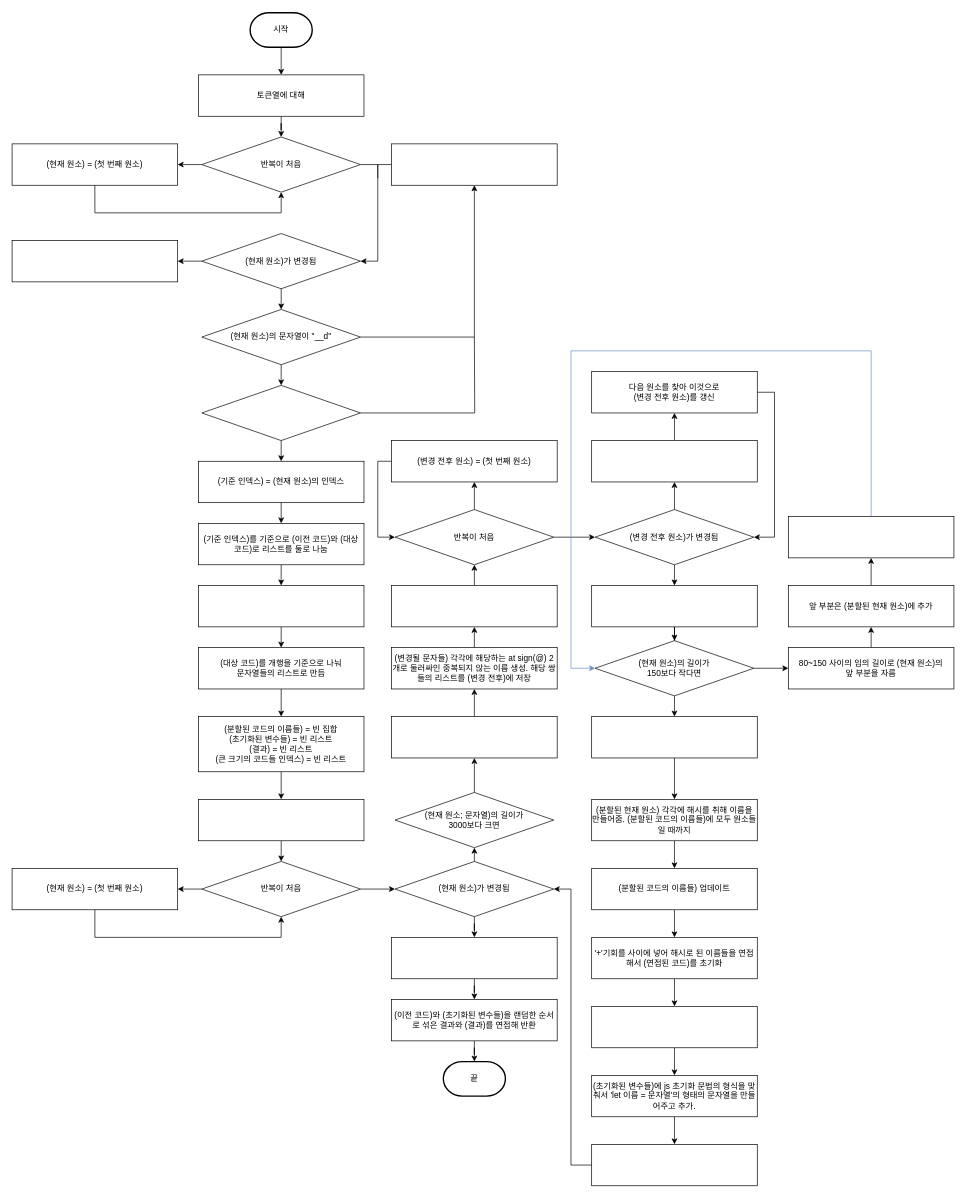
Image size: 966x1198. Some labels were removed from this diagram. Each missing label, with the box of its shape:
(변경 전후)에 대해: (391, 585, 557, 627)
(분할된 현재 원소) = 빈 리스트: (591, 585, 757, 627)
(분할된 현재 원소)에 (현재 원소) 추가: (591, 716, 757, 758)
(큰 크기의 코드들 인덱스)에 (현재 원소)의 인덱스 추가: (391, 716, 557, 758)
(큰 크기의 코드들 인덱스)에 있는 인덱스는 (대상 코드)에서 해당 인덱스를 찾아 '\\\\'만 '\\'으로 변경해 (결과)를 갱신.: (391, 937, 557, 979)
(현재 원소)에 있는 (변경 전후 원소)의 변경 전 문자열을 변경 후 문자열로 모두 치환: (591, 440, 757, 482)
(현재 원소)의 다음 원소의 문자열이 "(": (201, 385, 361, 441)
js 초기화 문법의 형식을 맞춰서 'let 이름 = 문자열'의 형태의 문자열을 만들어주고 (초기화된 변수들)에 추가.: (591, 1006, 757, 1048)
다음 원소를 찾아 그것으로 (분할된 현재 원소) 갱신.: (591, 1144, 757, 1186)
다음요소를 찾아 (현재 원소)를 갱신: (391, 143, 557, 185)
뒷 부분으로 (현재 원소) 갱신: (788, 516, 954, 558)
문자열 및 정규표현식, 템플릿 내의 역슬래쉬 전처리: (198, 585, 364, 627)
문자열들의 리스트가 된 (대상 코드)에 대해: (198, 799, 364, 841)
에러: 코드 난독화 불가: (11, 240, 178, 282)
